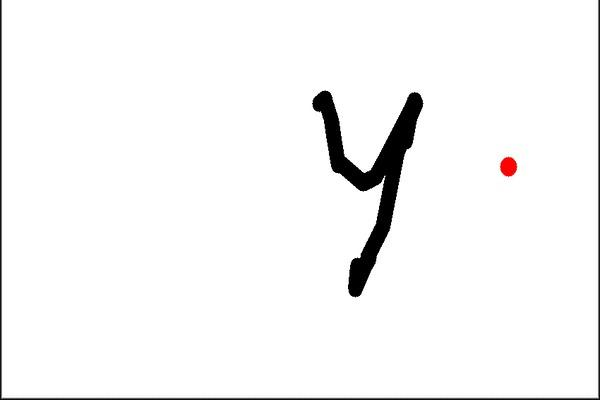Y: (299, 74, 434, 308)
